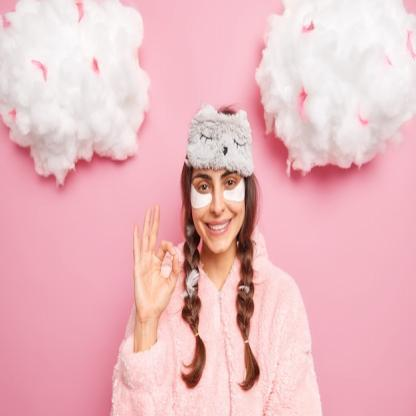ok: (132, 202, 182, 324)
